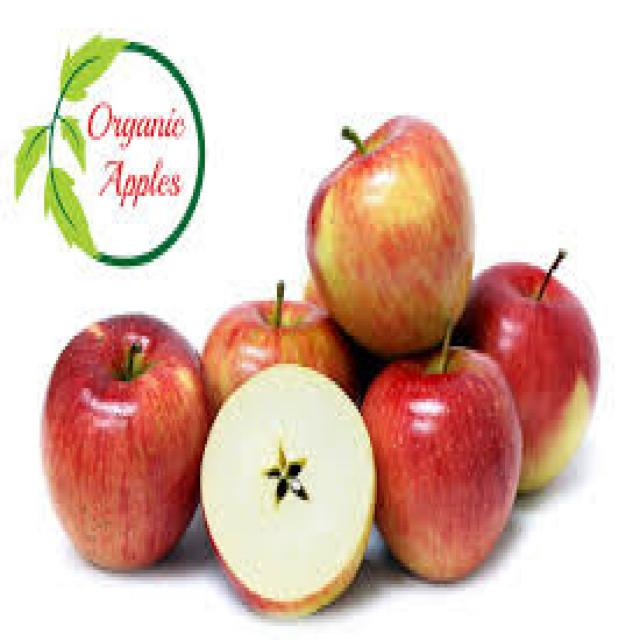organic waste: (37, 307, 207, 574), (195, 356, 372, 608), (361, 314, 519, 580), (305, 112, 470, 350), (454, 245, 596, 493), (198, 276, 356, 420)
